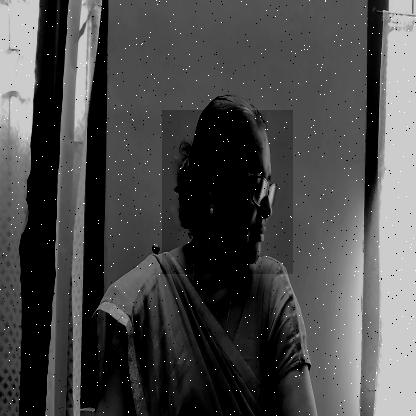Distracted: (162, 110, 293, 274)
